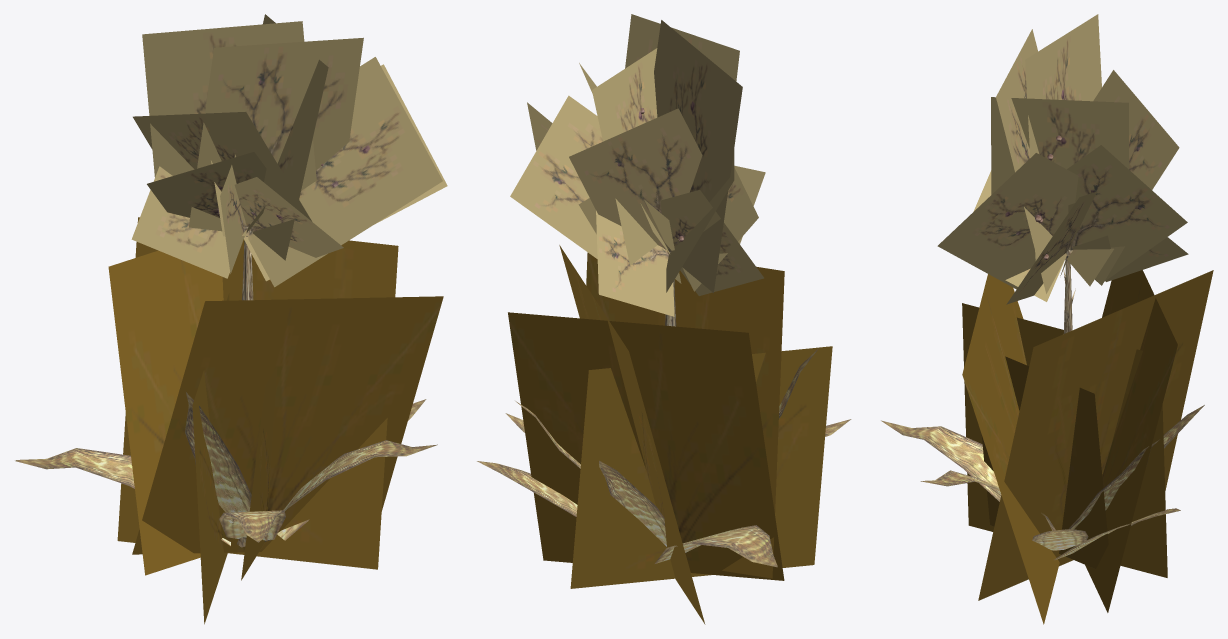
File: succ_tatt_jinapur_bush_l0.fbx
3 views of the same model, side by side, from view 1: azimuth 30°, elevation 25°; view 2: azimuth 150°, elevation 25°; view 3: azimuth 270°, elevation 25° (orthographic). The views are drawn at different scales.
Visible parts, largest first — view 1: mesh_node; view 2: mesh_node; view 3: mesh_node.
Part boxes in pixels (left/top/right/bottom): mesh_node: left=15, top=14, right=447, bottom=624; mesh_node: left=477, top=14, right=851, bottom=624; mesh_node: left=881, top=14, right=1213, bottom=624.
Size of the model in its own units: 1.86 by 2.84 by 1.62.
